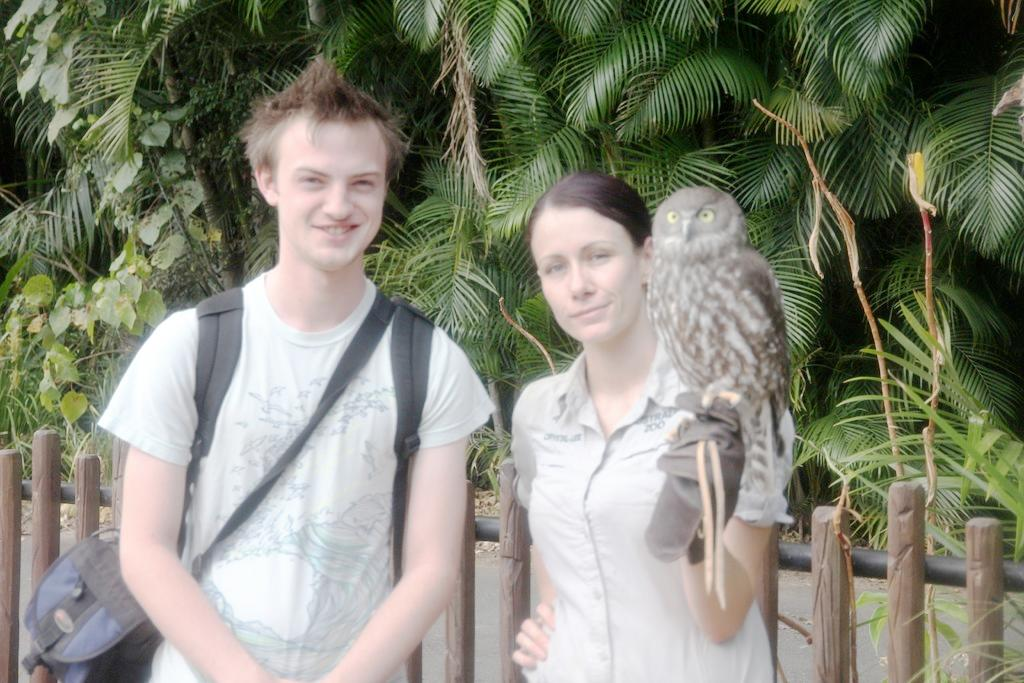Owl: (646, 180, 796, 525)
